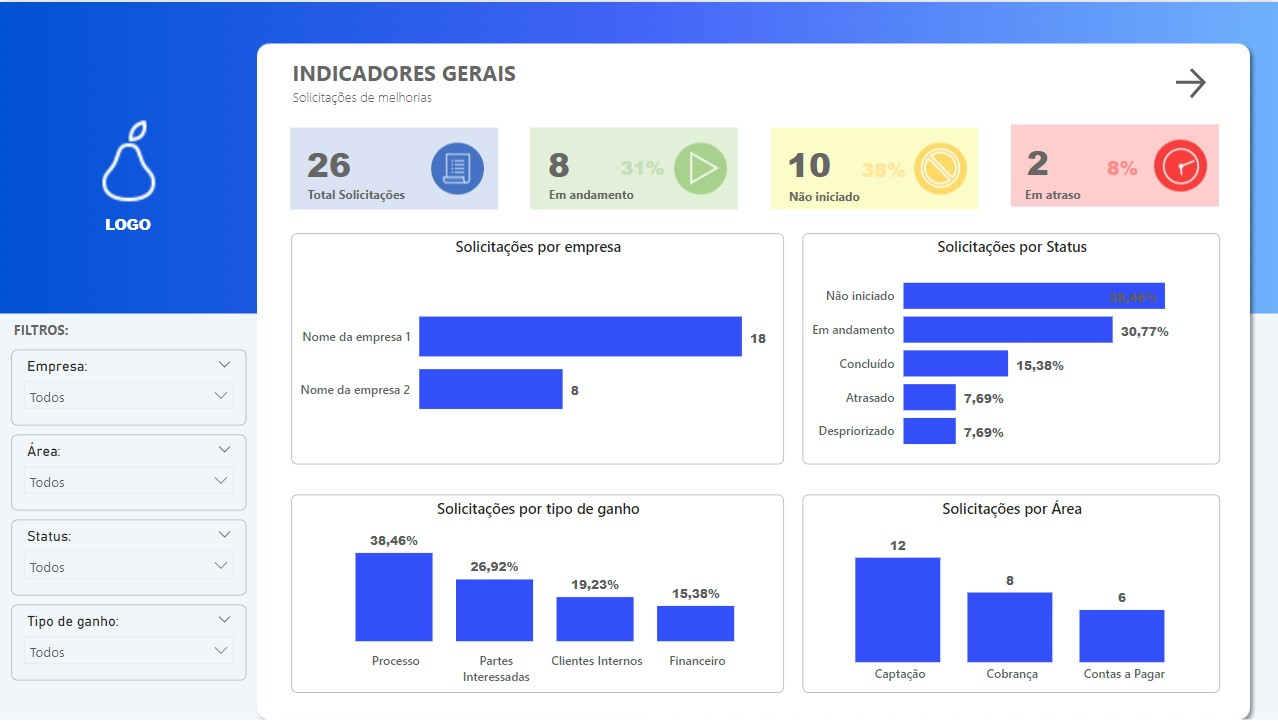

What the dashboard file says about the page in this screenshot:
{"tool":"powerbi","page":{"name":"Page1","canvas":[1280,720],"ordinal":0},"visuals":[{"type":"image","box":[60,110,137.5,98],"z":0,"group":"g1"},{"type":"card","fields":{"Values":["_Medidas.mTotalMelhoria"]},"box":[290.7,136.6,76,53.1],"z":0},{"type":"textbox","box":[302.7,177.3,173.7,32.6],"z":1000},{"type":"textbox","box":[87.8,208,80.5,43.2],"z":1000,"group":"g1"},{"type":"card","fields":{"Values":["_Medidas.mTotalMelhoria"]},"box":[520.8,136.3,76,53.1],"z":2000},{"type":"textbox","box":[543.7,177.3,173.7,32.6],"z":3000},{"type":"card","fields":{"Values":["_Medidas.mTotalMelhoria"]},"box":[771.9,129,76,67.5],"z":4000},{"type":"textbox","box":[783.9,179.7,173.7,32.6],"z":5000},{"type":"card","fields":{"Values":["_Medidas.mTotalMelhoria"]},"box":[1004.6,136.3,66.3,49.4],"z":6000},{"type":"textbox","box":[1020.3,177.3,173.7,32.6],"z":7000},{"type":"columnChart","title":"Solicitações por Área","fields":{"Category":["dArea.Área"],"Y":["_Medidas.mTotalMelhoria"]},"box":[802.5,492.5,417.5,198.8],"z":8000},{"type":"clusteredBarChart","title":"Solicitações por Status","fields":{"Category":["dStatus.Status"],"Y":["Divide(_Medidas.mTotalMelhoria, ScopedEval(_Medidas.mTotalMelhoria, []))"]},"box":[802.5,231.2,417.5,231.2],"z":9000},{"type":"clusteredColumnChart","title":"Solicitações por tipo de ganho","fields":{"Category":["dTipoGanho.Tipo de ganho"],"Y":["Divide(_Medidas.mTotalMelhoria, ScopedEval(_Medidas.mTotalMelhoria, []))"]},"box":[291.2,492.5,492.5,198.8],"z":10000},{"type":"barChart","title":"Solicitações por empresa","fields":{"Category":["dEmpresa.Empresa"],"Y":["_Medidas.mTotalMelhoria"]},"box":[291.2,231.2,492.5,231.2],"z":11000},{"type":"textbox","box":[287.5,50.9,250,42.5],"z":12000},{"type":"textbox","box":[287.5,80.9,250,32.5],"z":13000},{"type":"slicer","fields":{"Values":["dEmpresa.Empresa"]},"box":[11.2,347.5,235,76.2],"z":14000},{"type":"slicer","fields":{"Values":["dArea.Área"]},"box":[11.2,432.5,235,76.2],"z":15000},{"type":"slicer","fields":{"Values":["dStatus.Status"]},"box":[11.2,517.5,235,76.2],"z":16000},{"type":"slicer","fields":{"Values":["dTipoGanho.Tipo de ganho"]},"box":[11.2,602.5,235,76.2],"z":17000},{"type":"textbox","box":[8.8,313.8,85,30],"z":18000},{"type":"actionButton","box":[1170,61.2,100,40],"z":19000},{"type":"group","id":"g1","title":"Grupo 1","box":[60,110,137.5,141.2],"z":20000},{"type":"card","fields":{"Values":["_Medidas.% Em Andamento"]},"box":[602.5,136.2,80,63.8],"z":21000},{"type":"card","fields":{"Values":["_Medidas.% Não iniciado"]},"box":[843.8,137.5,80,63.8],"z":22000},{"type":"card","fields":{"Values":["_Medidas.% Em Atraso"]},"box":[1082.5,136.2,80,63.8],"z":23000}]}

Visuals, with their boxes in screenshot pixels (x1, y1, x2, y2), scaled from the page's 1280x720 canvas onto the 1278x721 screenshot:
image: <region>60, 110, 197, 208</region>
card - _Medidas.mTotalMelhoria: <region>290, 137, 366, 190</region>
textbox: <region>302, 178, 476, 210</region>
textbox: <region>88, 208, 168, 252</region>
card - _Medidas.mTotalMelhoria: <region>520, 136, 596, 190</region>
textbox: <region>543, 178, 716, 210</region>
card - _Medidas.mTotalMelhoria: <region>771, 129, 847, 197</region>
textbox: <region>783, 180, 956, 213</region>
card - _Medidas.mTotalMelhoria: <region>1003, 136, 1069, 186</region>
textbox: <region>1019, 178, 1192, 210</region>
"Solicitações por Área" columnChart: <region>801, 493, 1218, 692</region>
"Solicitações por Status" clusteredBarChart: <region>801, 232, 1218, 463</region>
"Solicitações por tipo de ganho" clusteredColumnChart: <region>291, 493, 782, 692</region>
"Solicitações por empresa" barChart: <region>291, 232, 782, 463</region>
textbox: <region>287, 51, 537, 94</region>
textbox: <region>287, 81, 537, 114</region>
slicer - dEmpresa.Empresa: <region>11, 348, 246, 424</region>
slicer - dArea.Área: <region>11, 433, 246, 509</region>
slicer - dStatus.Status: <region>11, 518, 246, 595</region>
slicer - dTipoGanho.Tipo de ganho: <region>11, 603, 246, 680</region>
textbox: <region>9, 314, 94, 344</region>
actionButton: <region>1168, 61, 1268, 101</region>
"Grupo 1" group: <region>60, 110, 197, 252</region>
card - _Medidas.% Em Andamento: <region>602, 136, 681, 200</region>
card - _Medidas.% Não iniciado: <region>842, 138, 922, 202</region>
card - _Medidas.% Em Atraso: <region>1081, 136, 1161, 200</region>
